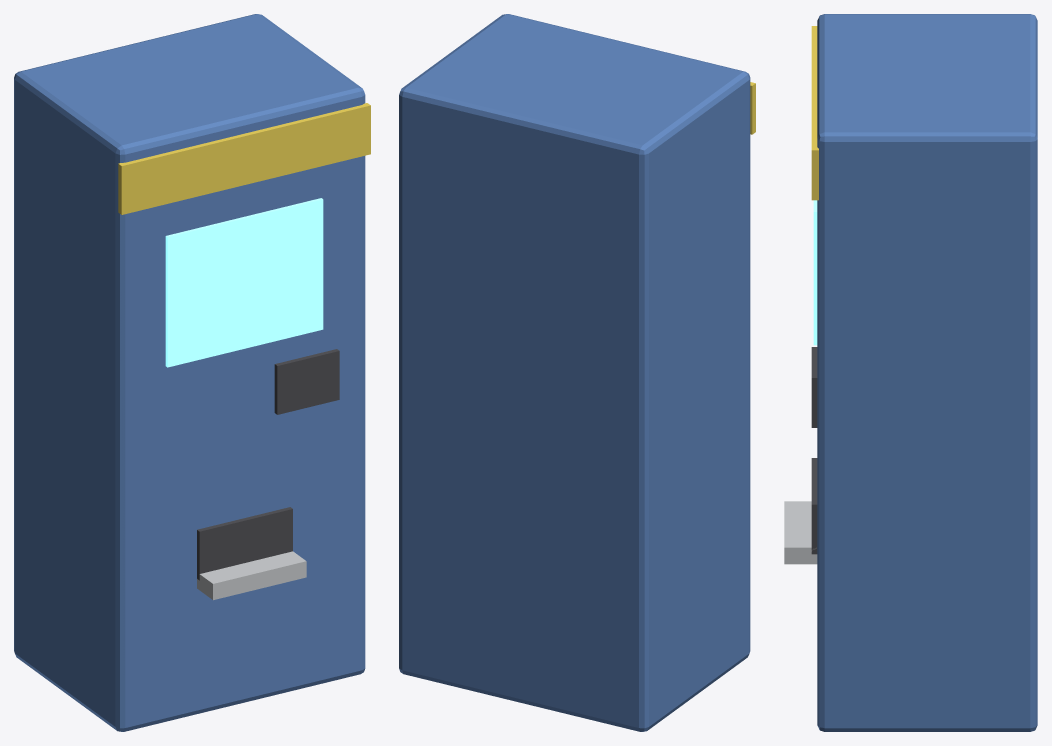
File: token_machine.gltf
The picture shows the model from 3 angles, left to right: view 1: azimuth 30°, elevation 25°; view 2: azimuth 150°, elevation 25°; view 3: azimuth 270°, elevation 25°; orthographic projection. The views are drawn at different scales.
Visible parts, largest first — view 1: Cabinet, Screen, Header, Slot, Keypad, Tray; view 2: Cabinet; view 3: Cabinet, Tray, Header, Screen, Slot, Keypad.
Part boxes in pixels (<box>): Cabinet: <box>14,14,365,731</box>; Screen: <box>165,198,323,367</box>; Header: <box>118,103,370,214</box>; Slot: <box>197,507,292,580</box>; Keypad: <box>274,349,339,414</box>; Tray: <box>197,551,306,600</box>; Cabinet: <box>399,14,750,731</box>; Cabinet: <box>817,14,1037,731</box>; Tray: <box>784,501,817,564</box>; Header: <box>811,26,818,200</box>; Screen: <box>813,200,817,345</box>; Slot: <box>811,458,817,554</box>; Keypad: <box>811,347,817,427</box>.
Bounding box in the file's own units: 0.8 × 1.8 × 0.69.
